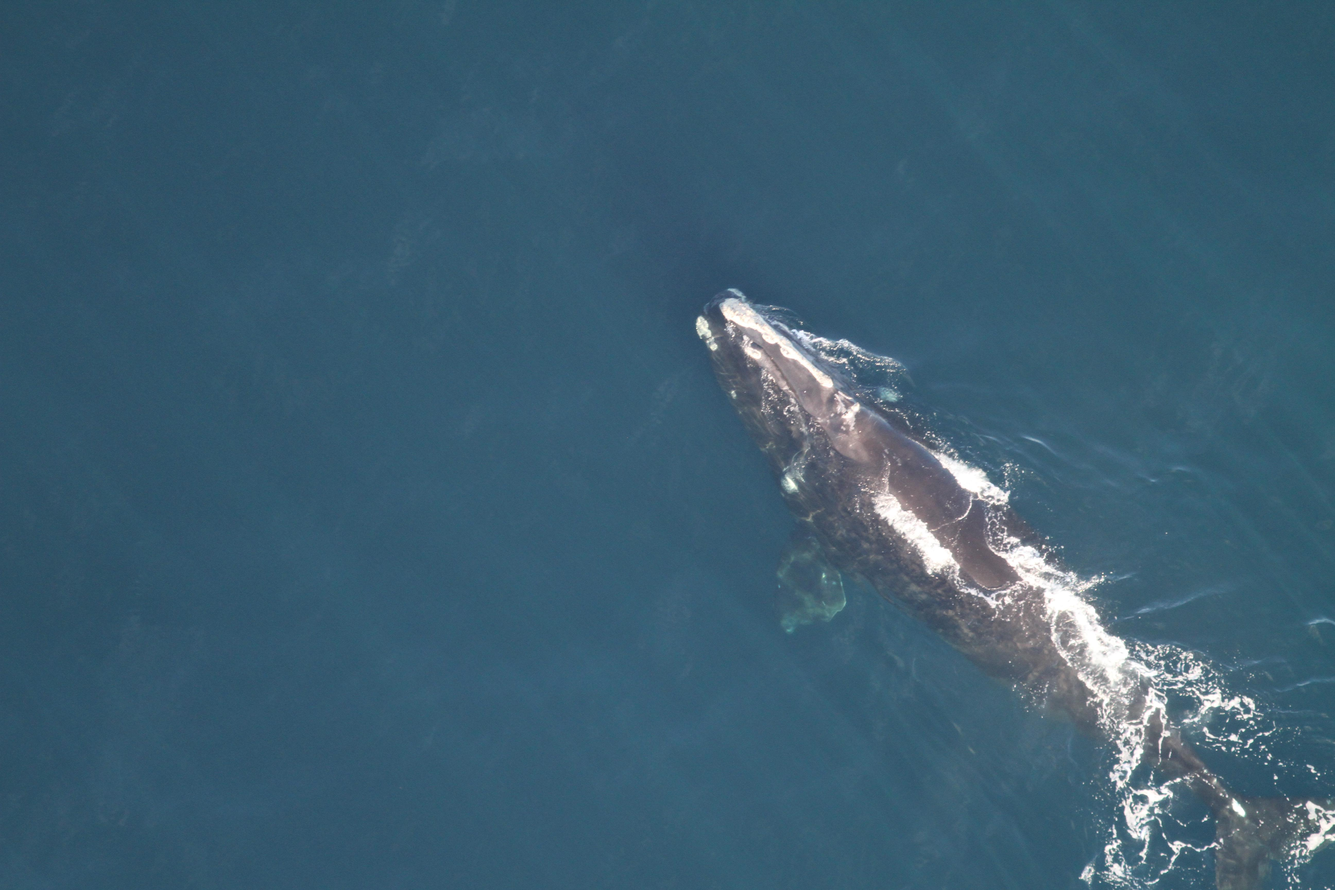whale: (687, 276, 1335, 884)
